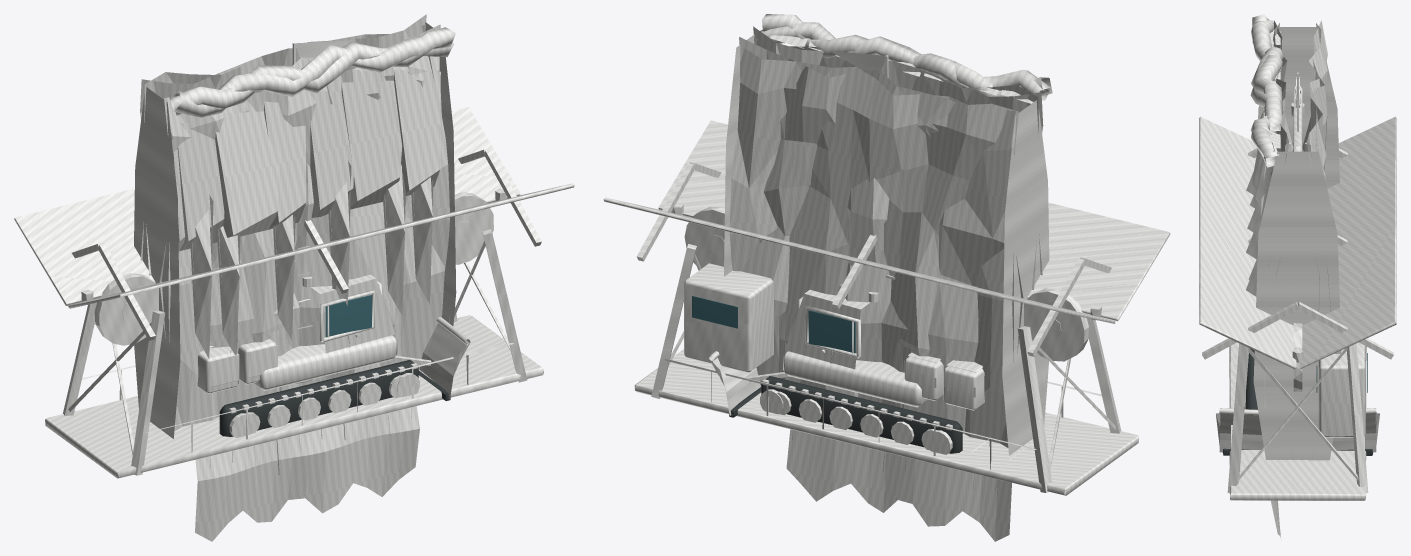
Rendered from snowline-standard-lod-packed.glb.
3 views of the same model, side by side, from view 1: azimuth 30°, elevation 25°; view 2: azimuth 150°, elevation 25°; view 3: azimuth 270°, elevation 25° (orthographic). The views are drawn at different scales.
Parts seen in each view (by area): view 1: snowline:gorge-wall-a, snowline:lift-station, snowline:gorge-wall-b, snowline:snowcat, snowline:shelf-face; view 2: snowline:gorge-wall-a, snowline:lift-station, snowline:gorge-wall-b, snowline:snowcat, snowline:shelf-face, snowline:summit-beacon; view 3: snowline:lift-station, snowline:gorge-wall-a, snowline:gorge-wall-b, snowline:snowcat, snowline:lift-tower.
Part boxes in pixels (box(x1,y1,x2,y2)): snowline:gorge-wall-a: box(134, 22, 456, 438); snowline:lift-station: box(14, 107, 574, 478); snowline:gorge-wall-b: box(140, 14, 453, 431); snowline:snowcat: box(197, 274, 470, 437); snowline:shelf-face: box(195, 406, 419, 541); snowline:gorge-wall-a: box(724, 14, 1050, 455); snowline:lift-station: box(603, 120, 1170, 495); snowline:gorge-wall-b: box(739, 22, 1052, 447); snowline:snowcat: box(709, 284, 984, 454); snowline:shelf-face: box(786, 429, 1011, 541); snowline:summit-beacon: box(830, 51, 888, 77); snowline:lift-station: box(1199, 116, 1396, 500); snowline:gorge-wall-a: box(1246, 20, 1341, 460); snowline:gorge-wall-b: box(1246, 14, 1327, 459); snowline:snowcat: box(1216, 348, 1379, 455); snowline:lift-tower: box(1289, 77, 1306, 151).
Size of the model in its own units: 16.49 by 16.26 by 6.69.
Materials: 4 (2 with a texture image).
